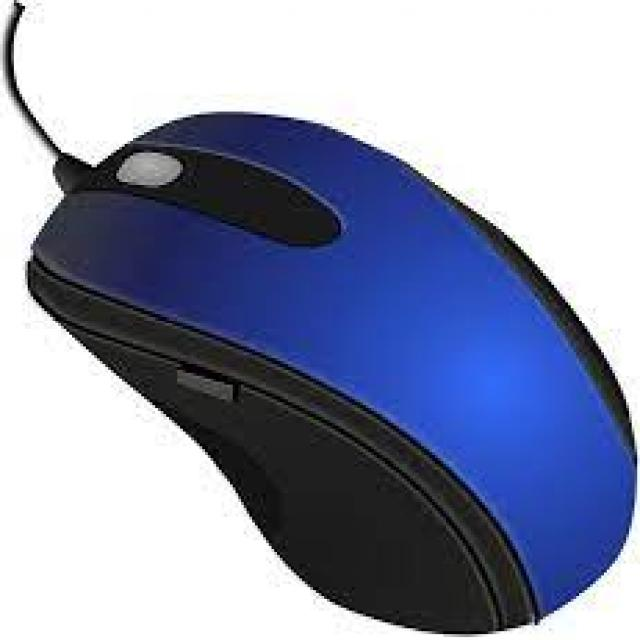others: (3, 3, 640, 631)
